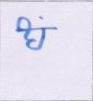anusvara: (39, 17, 43, 19)
